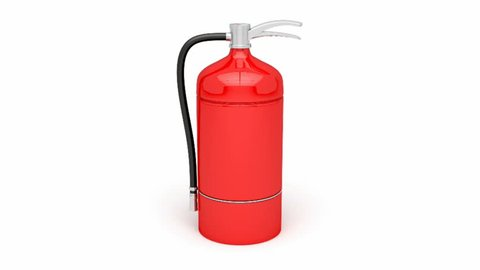fire_extinguisher: (176, 19, 303, 245)
